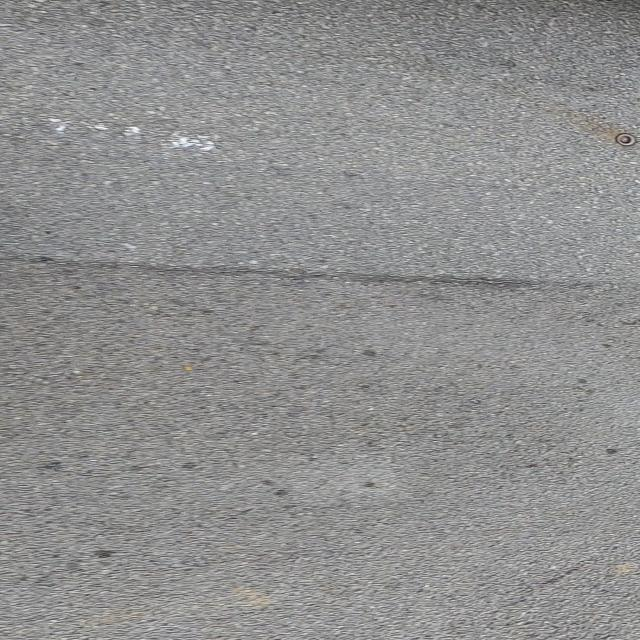Retak-Melintang: (39, 256, 545, 288)
